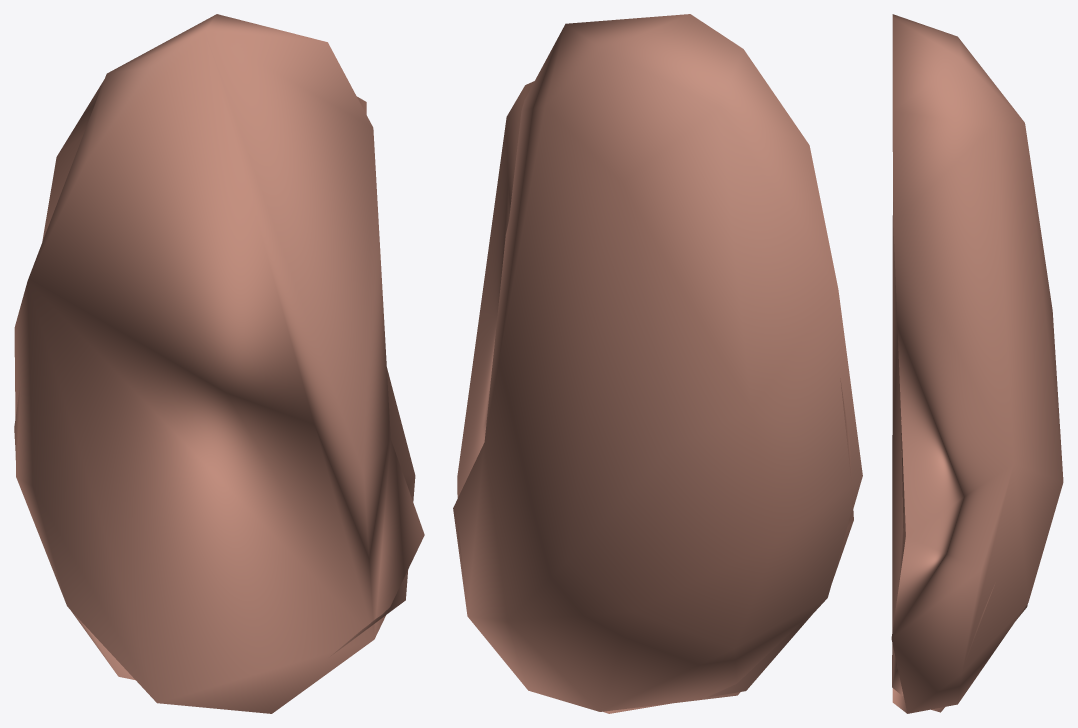
3 renders of one model, left to right at view 1: azimuth 30°, elevation 25°; view 2: azimuth 150°, elevation 25°; view 3: azimuth 270°, elevation 25°, orthographic. The views are drawn at different scales.
Parts seen in each view (by area): view 1: LOD 5_14591652872871216962_a1e5460f9667e624384844bb77a670e0; view 2: LOD 5_14591652872871216962_a1e5460f9667e624384844bb77a670e0; view 3: LOD 5_14591652872871216962_a1e5460f9667e624384844bb77a670e0.
Boxes of the visible parts, box(x1,y1,x2,y2) form: LOD 5_14591652872871216962_a1e5460f9667e624384844bb77a670e0: box(14, 14, 424, 713); LOD 5_14591652872871216962_a1e5460f9667e624384844bb77a670e0: box(453, 14, 862, 713); LOD 5_14591652872871216962_a1e5460f9667e624384844bb77a670e0: box(891, 14, 1063, 713).
Size of the model in its own units: 4.3 by 7.29 by 1.74.
